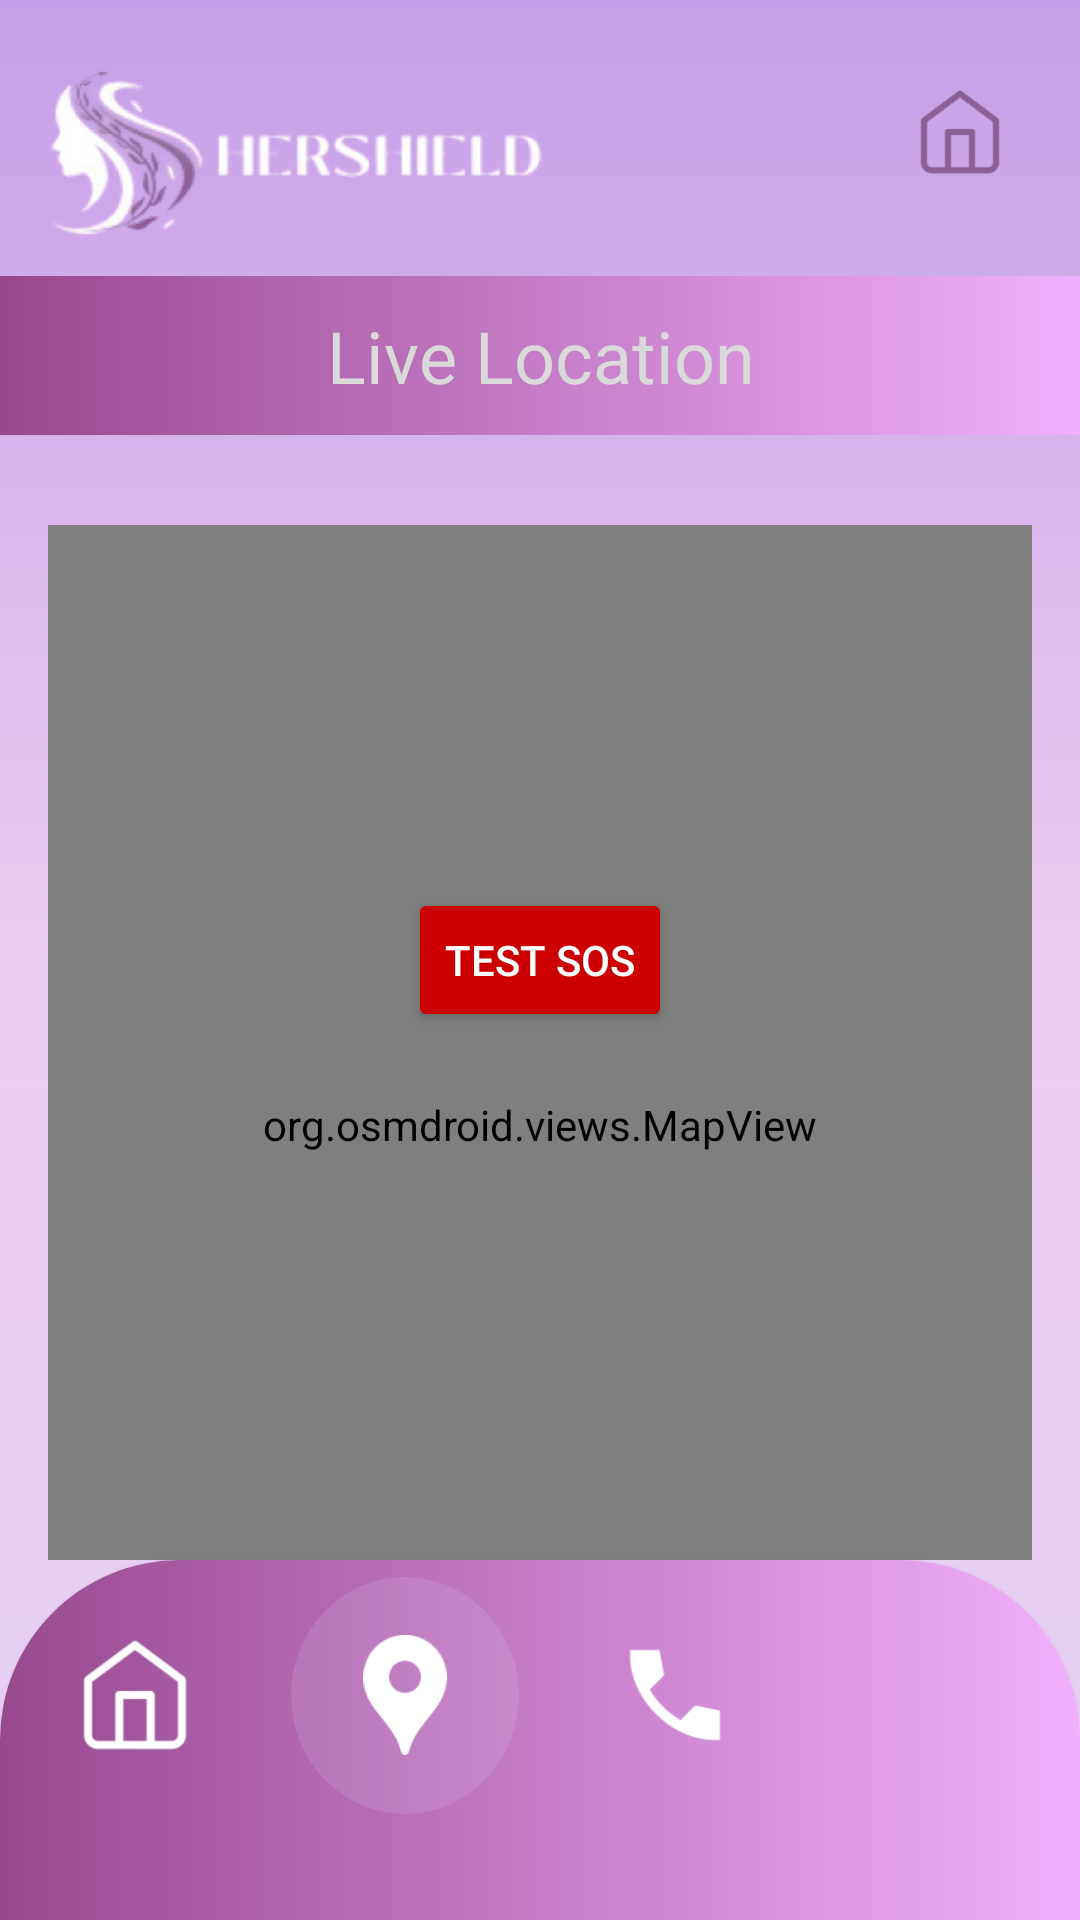

Icon bounding boxes for this 1080px×1920px phone screenshot, format (x1, y1, x2, y2):
home: (921, 90, 999, 174), (0, 1635, 191, 1755)
location pin: (363, 1635, 447, 1755)
